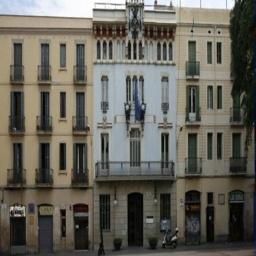building: (93, 0, 181, 251)
